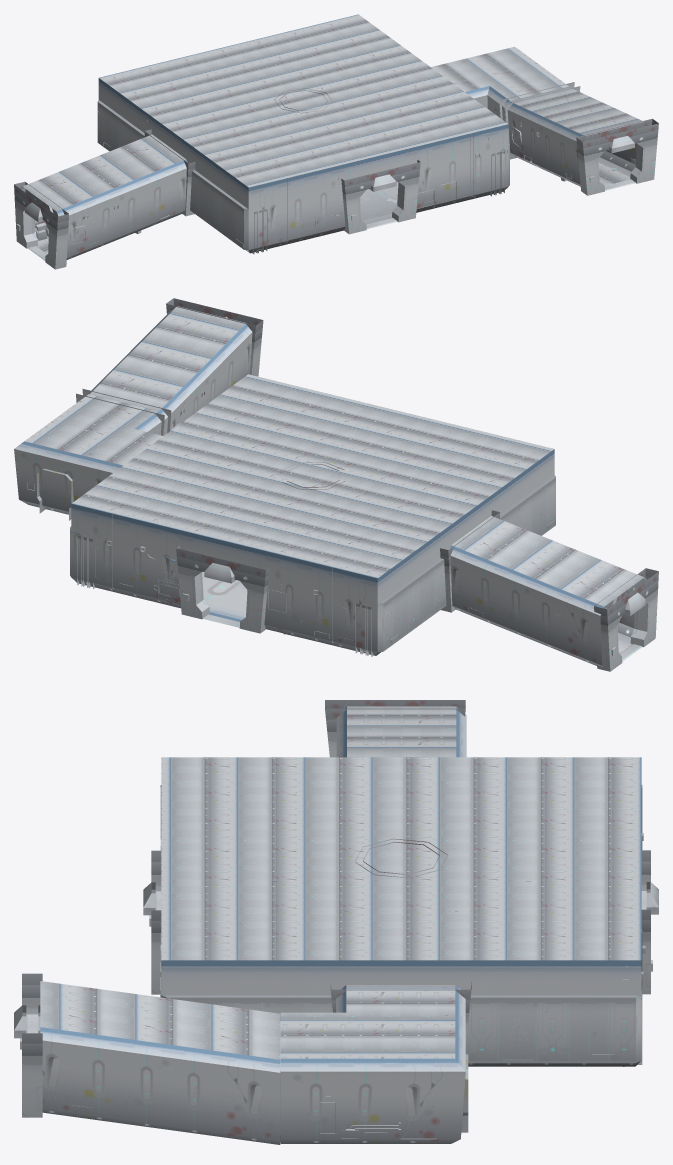
Rendered from Combined_Mesh_root_scene__12_ac3e1c64__ZombiesII_laboratory_01_d_47037629_c1f257.obj.
3 renders of one model, top to bottom at view 1: azimuth 30°, elevation 25°; view 2: azimuth 150°, elevation 25°; view 3: azimuth 270°, elevation 25°, orthographic. The views are drawn at different scales.
Bounding box in the file's own units: 78.61 × 13.91 × 53.73.
Materials: 273 (273 with a texture image).
